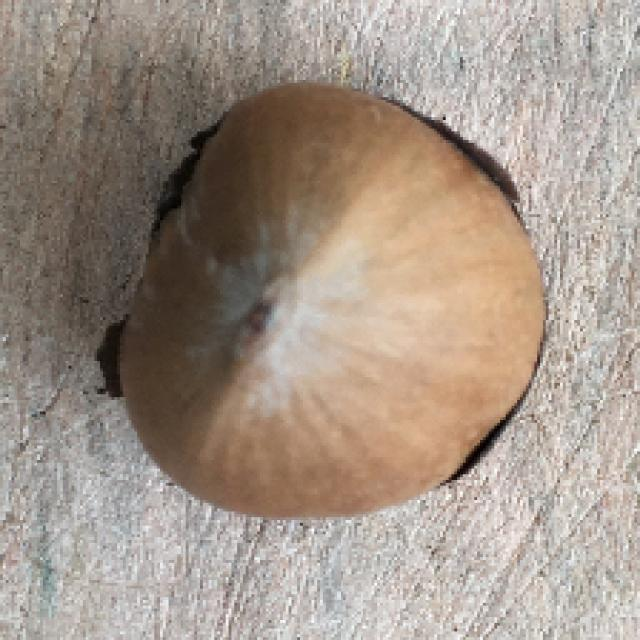damagedHazelnut: (106, 71, 554, 527)
